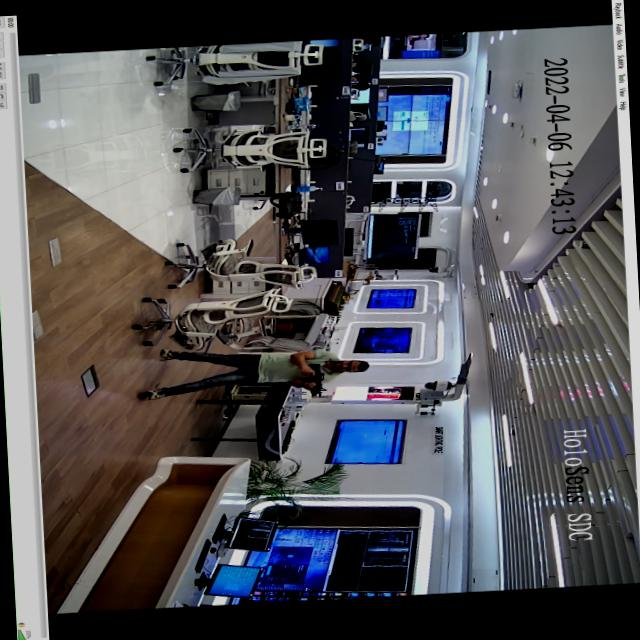long weapon: (292, 358, 338, 412)
